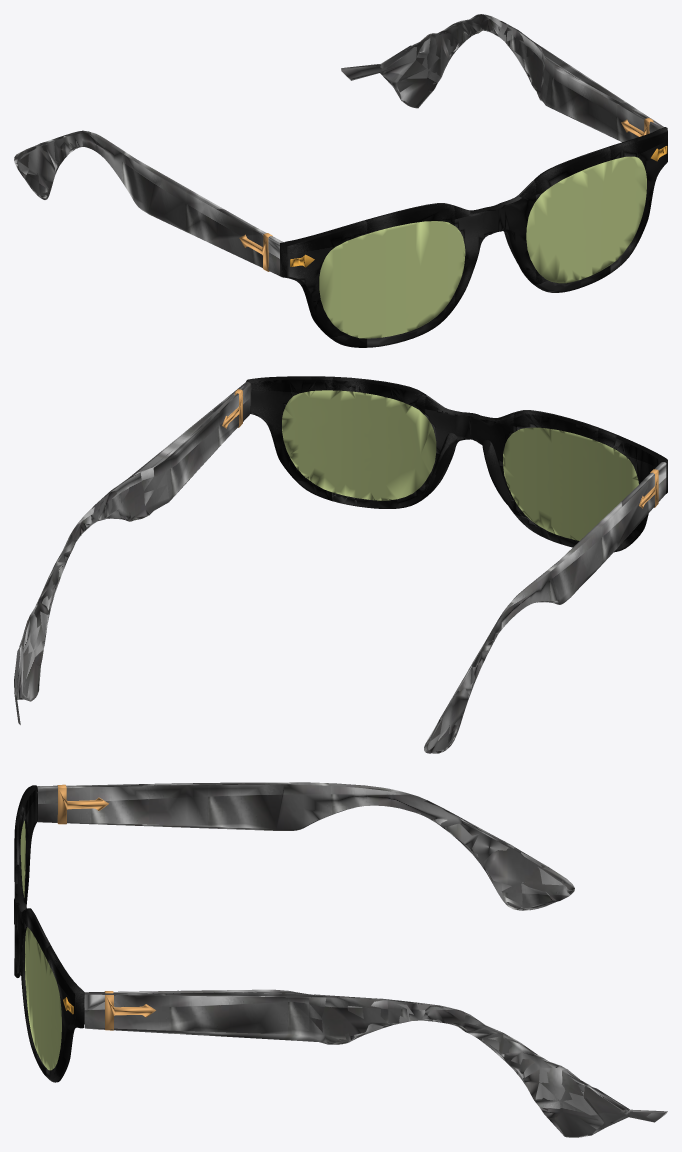
The model's file is lentes-sol-negros.glb.
The picture shows the model from 3 angles, top to bottom: view 1: azimuth 30°, elevation 25°; view 2: azimuth 150°, elevation 25°; view 3: azimuth 270°, elevation 25°; orthographic projection. The views are drawn at different scales.
Visible parts, largest first — view 1: Fit_lentes_sol_negros; view 2: Fit_lentes_sol_negros; view 3: Fit_lentes_sol_negros.
Boxes of the visible parts, <box> form: Fit_lentes_sol_negros: <box>14,14,667,347</box>; Fit_lentes_sol_negros: <box>14,376,667,753</box>; Fit_lentes_sol_negros: <box>14,782,667,1137</box>.
Size of the model in its own units: 0.1792 by 0.0637 by 0.2271.
Materials: 5 (2 with a texture image).
